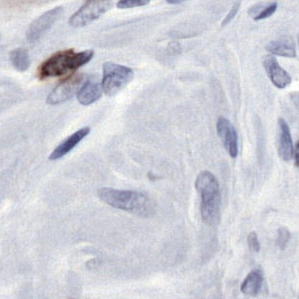Lymphocyte: (39, 49, 81, 77)
